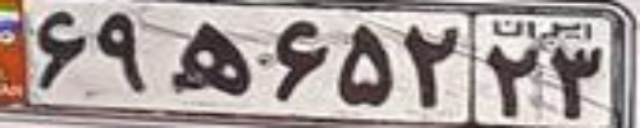2: (405, 24, 459, 107), (486, 45, 540, 117)
3: (548, 45, 602, 119)
5: (337, 26, 393, 106)
6: (273, 20, 330, 101), (34, 10, 85, 91)
9: (96, 12, 144, 91)
he: (170, 20, 253, 96)
